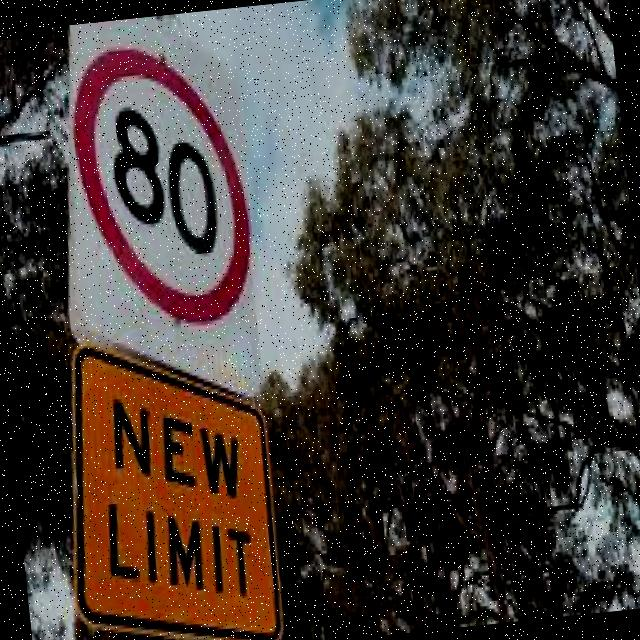Ograniczenie predkosci do 80: (67, 34, 263, 336)
